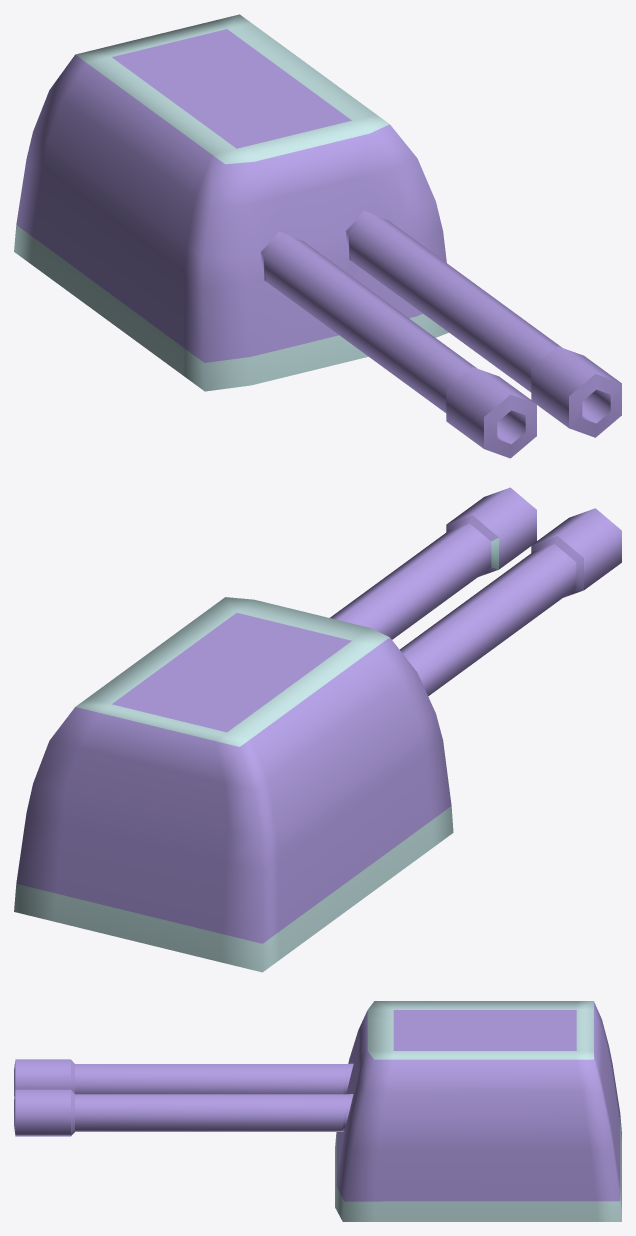
File: Proxy TurretStationary Top.fbx
3 views of the same model, one above another, from view 1: azimuth 30°, elevation 25°; view 2: azimuth 150°, elevation 25°; view 3: azimuth 270°, elevation 25° (orthographic). The views are drawn at different scales.
Parts seen in each view (by area): view 1: turretStationary_top; view 2: turretStationary_top; view 3: turretStationary_top.
Part boxes in pixels (x1=…): turretStationary_top: x1=14, y1=14, x2=621, y2=458; turretStationary_top: x1=14, y1=487, x2=621, y2=972; turretStationary_top: x1=14, y1=1001, x2=621, y2=1221.
Size of the model in its own units: 188 by 146 by 545.
